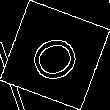O_NE: (23, 25, 87, 85)
